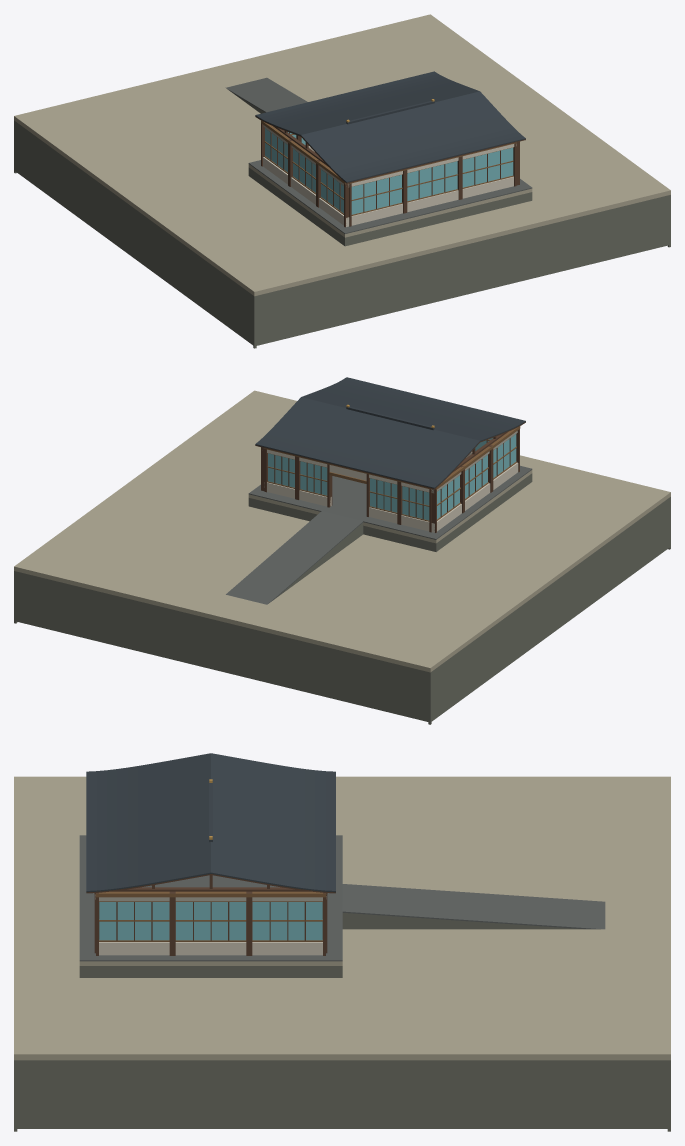
The model's file is visual-far.glb.
The picture shows the model from 3 angles, top to bottom: view 1: azimuth 30°, elevation 25°; view 2: azimuth 150°, elevation 25°; view 3: azimuth 270°, elevation 25°; orthographic projection. The views are drawn at different scales.
Parts seen in each view (by area): view 1: 连续岩土实体与最小原生岩块, 连续飞檐与梁椽, 分格窗洞与木石墙 (×2), 真实入口台基及实开门轴, 真实实体路基与连续坡面; view 2: 连续岩土实体与最小原生岩块, 连续飞檐与梁椽, 中轴实开门墙, 真实实体路基与连续坡面, 真实入口台基及实开门轴, 分格窗洞与木石墙, 石铺面与混凝土承板; view 3: 连续岩土实体与最小原生岩块, 连续飞檐与梁椽, 分格窗洞与木石墙, 真实实体路基与连续坡面, 真实入口台基及实开门轴, 石铺面与混凝土承板.
Boxes of the visible parts, <box> form: 连续岩土实体与最小原生岩块: <box>14,14,670,348</box>; 连续飞檐与梁椽: <box>255,71,525,183</box>; 分格窗洞与木石墙 (×2): <box>261,120,516,227</box>; 真实入口台基及实开门轴: <box>248,160,532,246</box>; 真实实体路基与连续坡面: <box>225,77,307,113</box>; 连续岩土实体与最小原生岩块: <box>14,390,670,724</box>; 连续飞檐与梁椽: <box>255,377,525,489</box>; 中轴实开门墙: <box>264,448,431,532</box>; 真实实体路基与连续坡面: <box>226,511,363,604</box>; 真实入口台基及实开门轴: <box>248,465,532,551</box>; 分格窗洞与木石墙: <box>431,426,520,532</box>; 石铺面与混凝土承板: <box>330,476,366,516</box>; 连续岩土实体与最小原生岩块: <box>14,776,670,1131</box>; 连续飞檐与梁椽: <box>86,753,335,893</box>; 分格窗洞与木石墙: <box>96,891,325,955</box>; 真实实体路基与连续坡面: <box>342,884,605,929</box>; 真实入口台基及实开门轴: <box>79,835,342,977</box>; 石铺面与混凝土承板: <box>142,875,279,939</box>.
Size of the model in its own units: 40 by 12.4 by 40.
13 materials, 13 textured.
